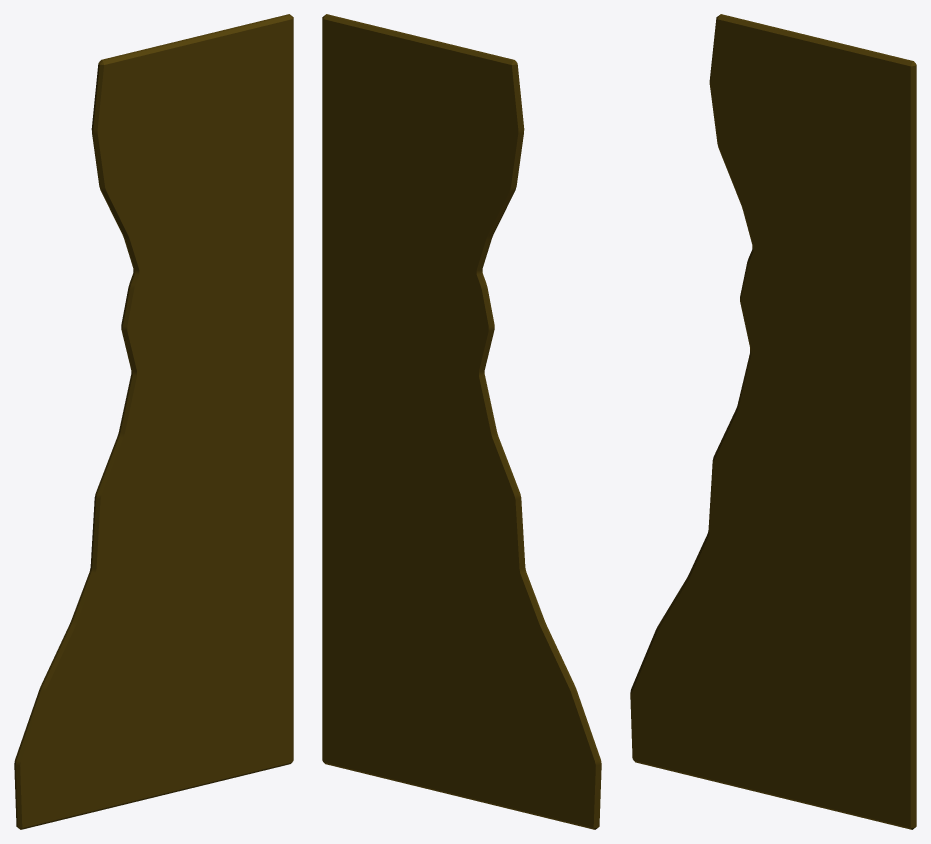
Rendered from Prop_Popup_BigCliff_Animation.fbx.
3 renders of one model, left to right at view 1: azimuth 30°, elevation 25°; view 2: azimuth 150°, elevation 25°; view 3: azimuth 330°, elevation 25°, orthographic. The views are drawn at different scales.
Parts seen in each view (by area): view 1: BGCliff; view 2: BGCliff; view 3: BGCliff.
Part boxes in pixels (bbox=[...]): BGCliff: bbox=[14, 14, 293, 829]; BGCliff: bbox=[322, 14, 601, 829]; BGCliff: bbox=[630, 14, 916, 829].
Size of the model in its own units: 2.73 by 7.04 by 0.0794.
